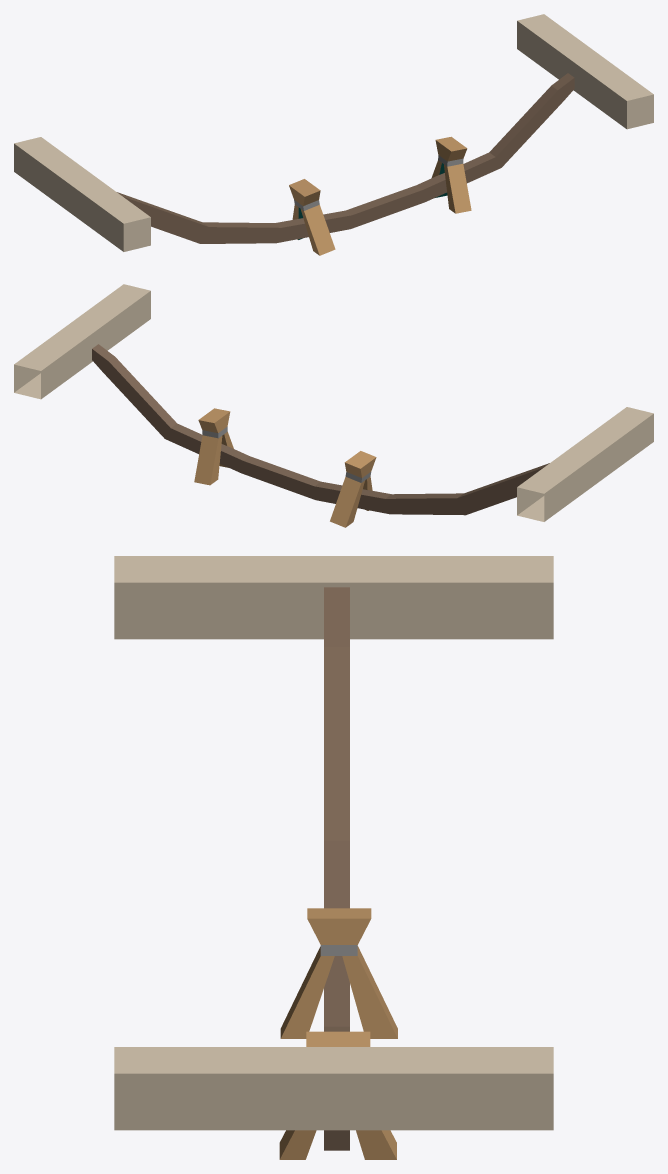
Rendered from Hanger.fbx.
3 views of the same model, one above another, from view 1: azimuth 30°, elevation 25°; view 2: azimuth 150°, elevation 25°; view 3: azimuth 270°, elevation 25° (orthographic). The views are drawn at different scales.
Parts seen in each view (by area): view 1: Hanger; view 2: Hanger; view 3: Hanger.
Boxes of the visible parts, <box> form: Hanger: <box>14,14,653,255</box>; Hanger: <box>14,284,653,527</box>; Hanger: <box>114,556,553,1159</box>.
Size of the model in its own units: 145 by 52.03 by 31.49.
